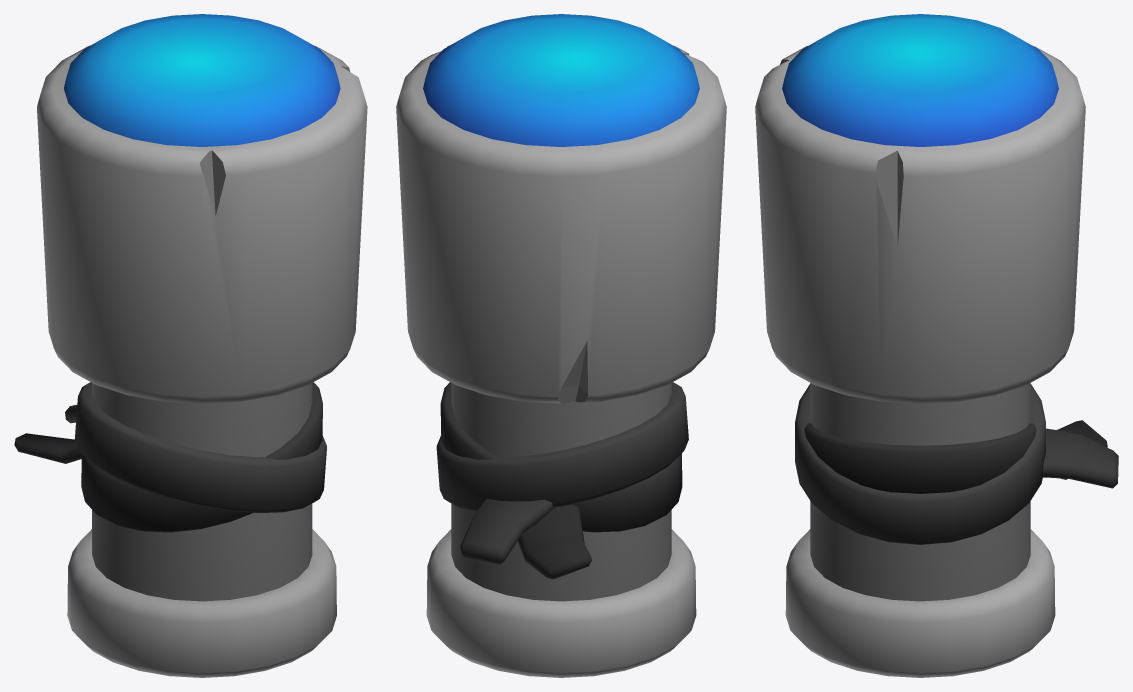
File: Telescope_V1_0.fbx
The picture shows the model from 3 angles, left to right: view 1: azimuth 30°, elevation 25°; view 2: azimuth 150°, elevation 25°; view 3: azimuth 270°, elevation 25°; orthographic projection.
Parts seen in each view (by area): view 1: Telescope_V1_0; view 2: Telescope_V1_0; view 3: Telescope_V1_0.
Part boxes in pixels (x1,y1,x2,y2): Telescope_V1_0: (14,14,367,677); Telescope_V1_0: (396,14,726,677); Telescope_V1_0: (755,14,1118,677).
Size of the model in its own units: 0.2505 by 0.4897 by 0.2754.
